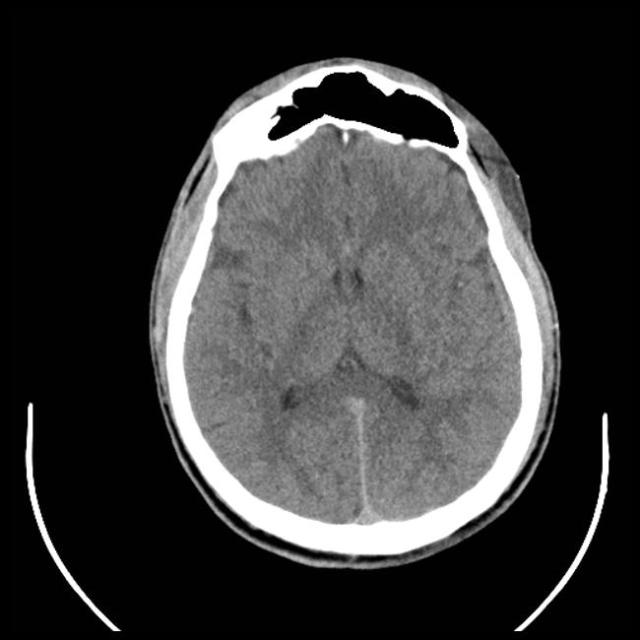lesion: (147, 58, 561, 563)
